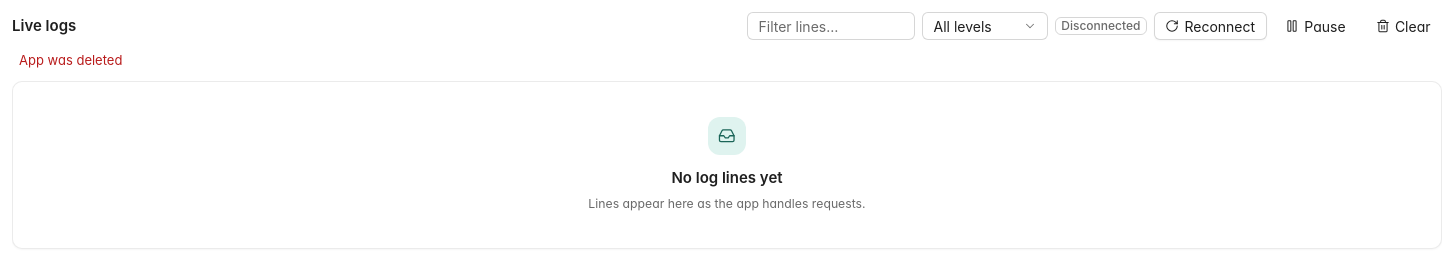
Test: LogsView › Reconnect after a server error event clears the message and reopens
Click the button "Reconnect" at {"x": 1210, "y": 26}, box [1154,12,1267,40]
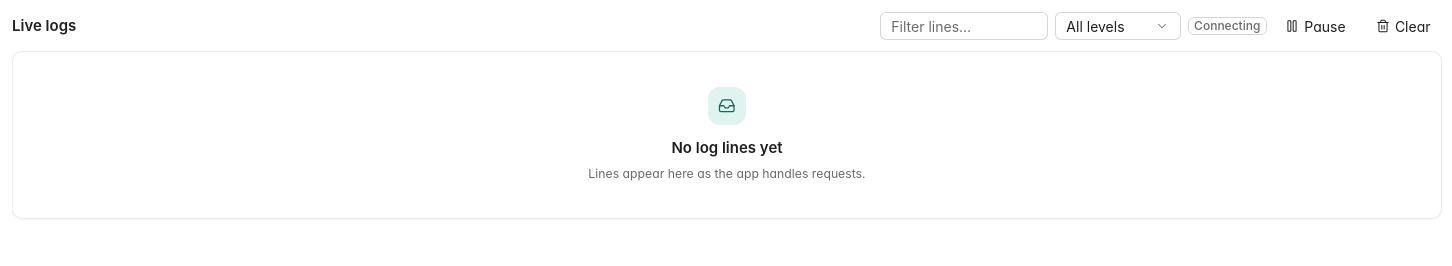
Expected: the text "App was deleted" is gone
